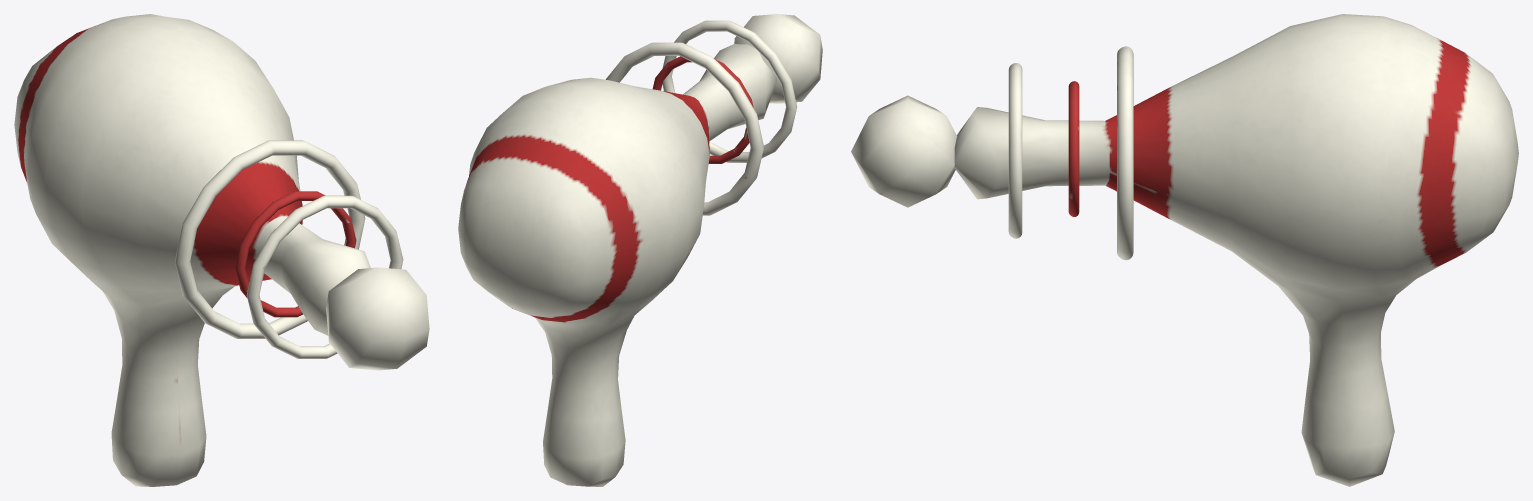
File: GravityGun.fbx
3 renders of one model, left to right at view 1: azimuth 30°, elevation 25°; view 2: azimuth 150°, elevation 25°; view 3: azimuth 270°, elevation 25°, orthographic. The views are drawn at different scales.
Parts seen in each view (by area): view 1: Cube; view 2: Cube; view 3: Cube.
Part boxes in pixels (x1,y1,x2,y2): Cube: [14, 14, 429, 486]; Cube: [458, 14, 822, 486]; Cube: [851, 14, 1518, 486].
Size of the model in its own units: 32.43 by 59.49 by 79.49.
